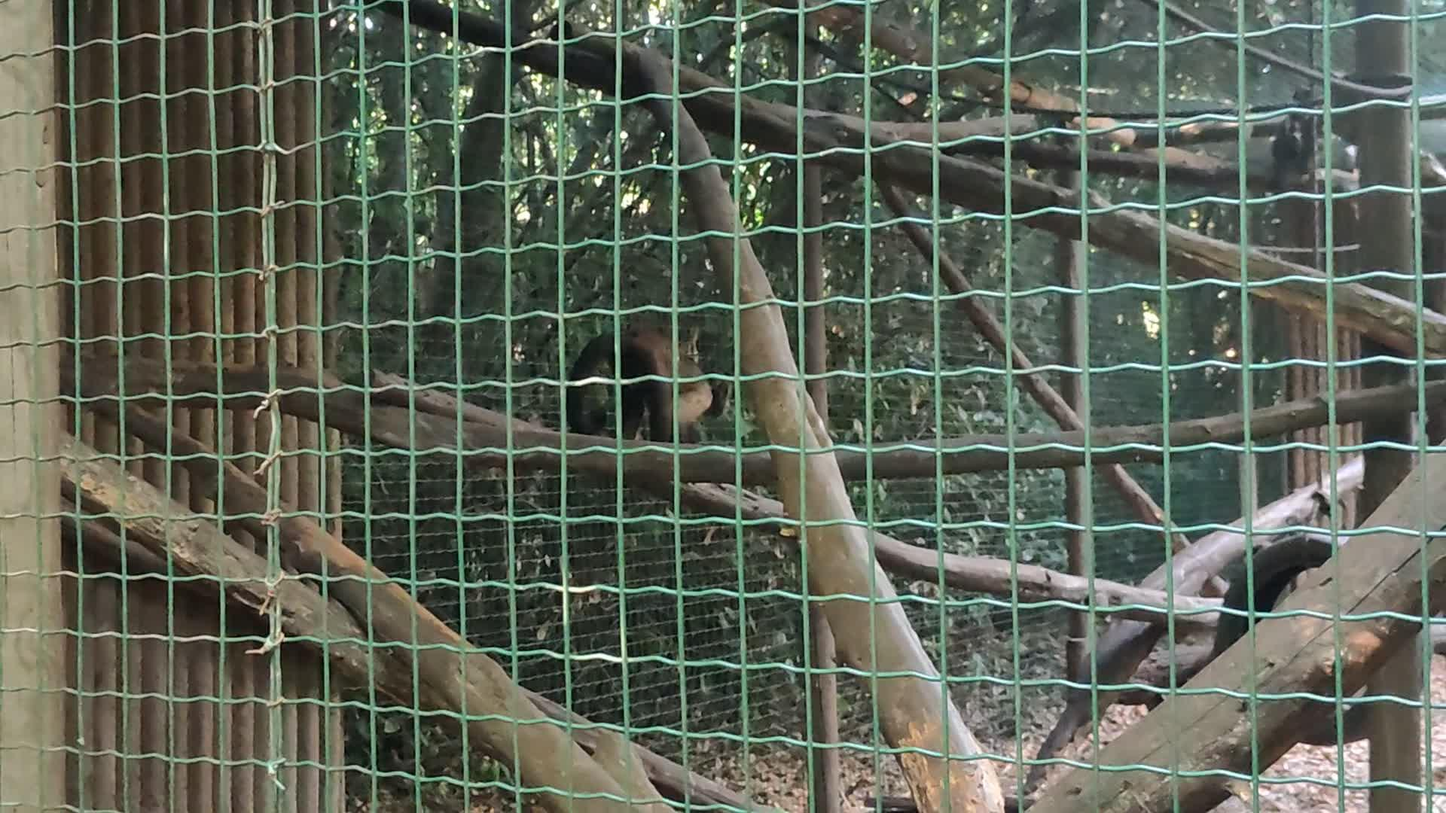boar: (567, 329, 732, 442)
